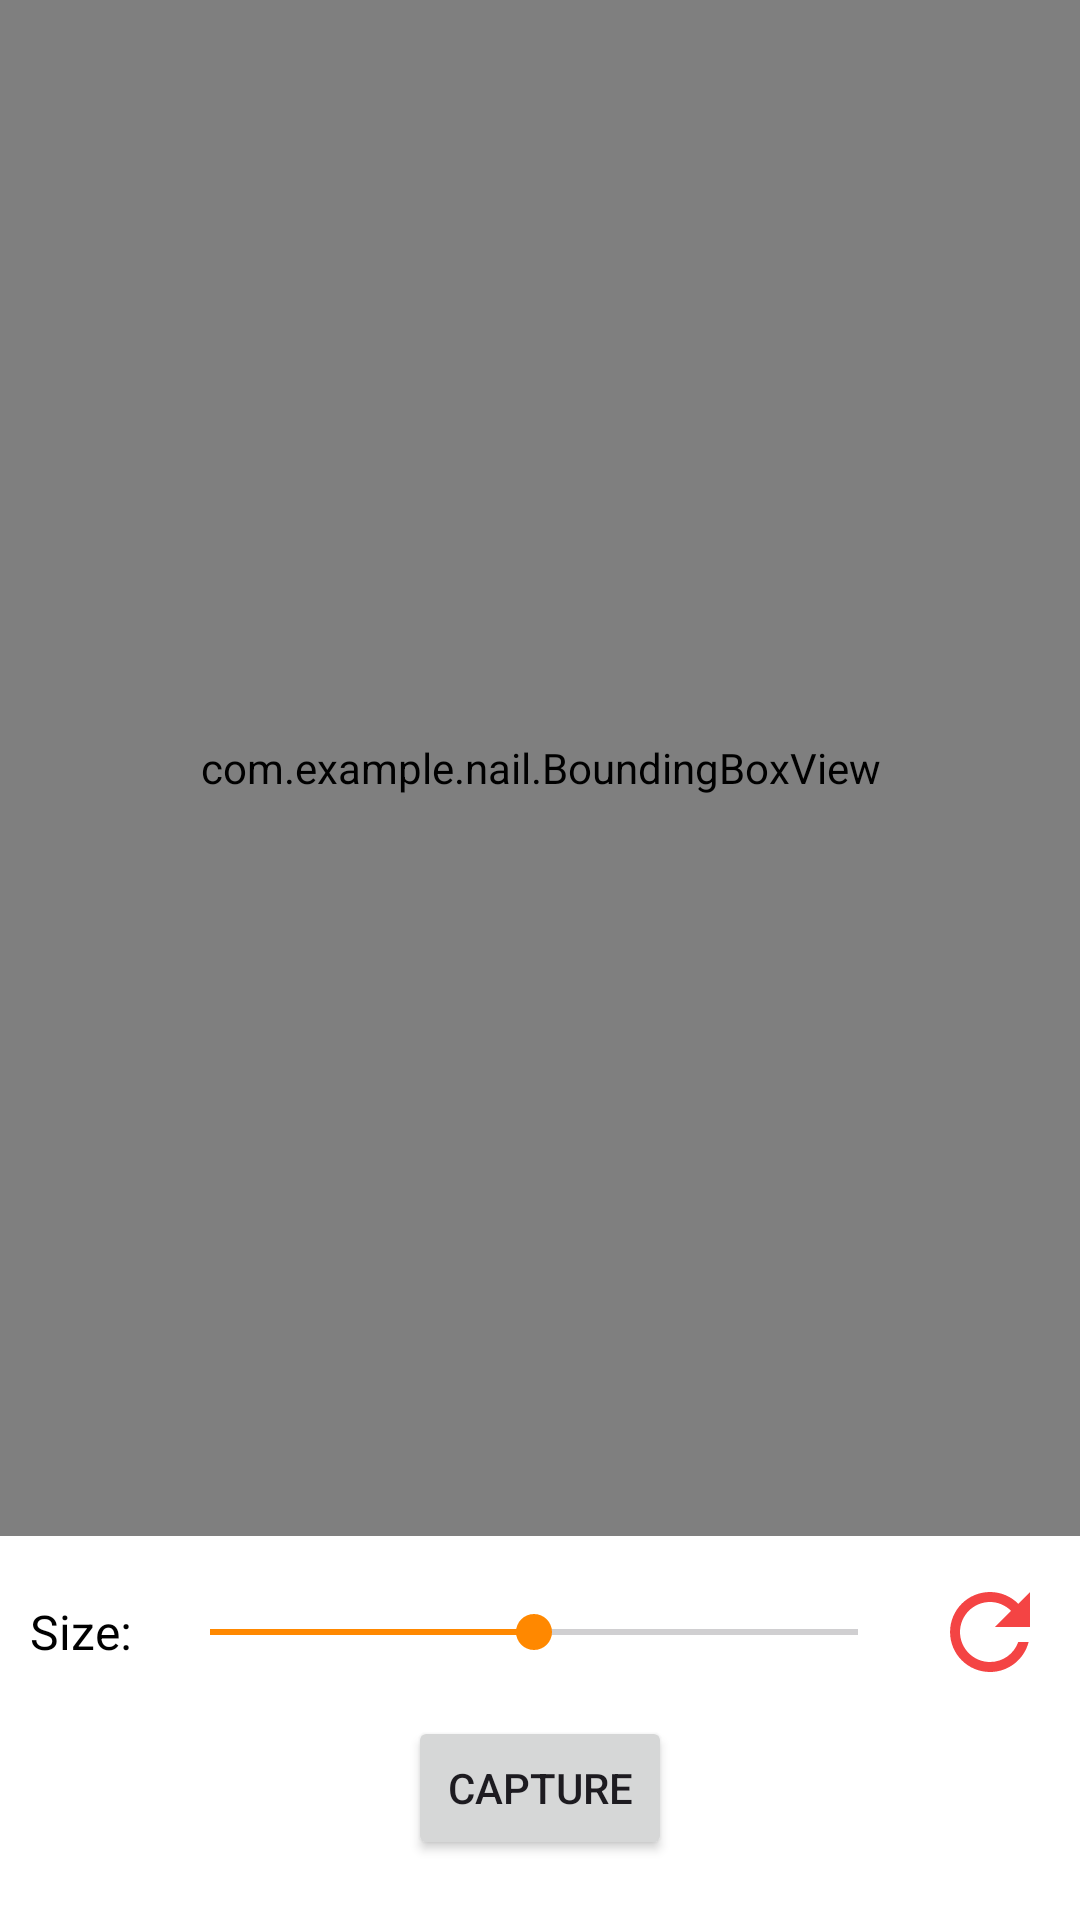

Point at icon controls on the screen. Image size 1080*1920, points as (x=x, y=y).
Reset: (x=990, y=1632)
